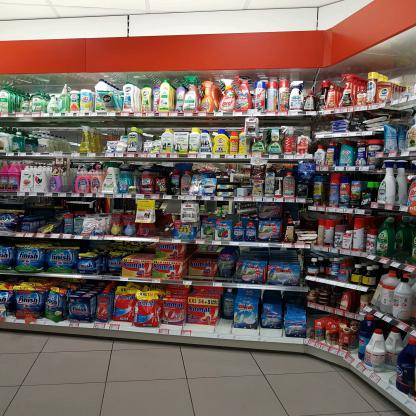Void: (61, 130, 80, 153), (220, 298, 232, 334), (62, 164, 76, 192)
